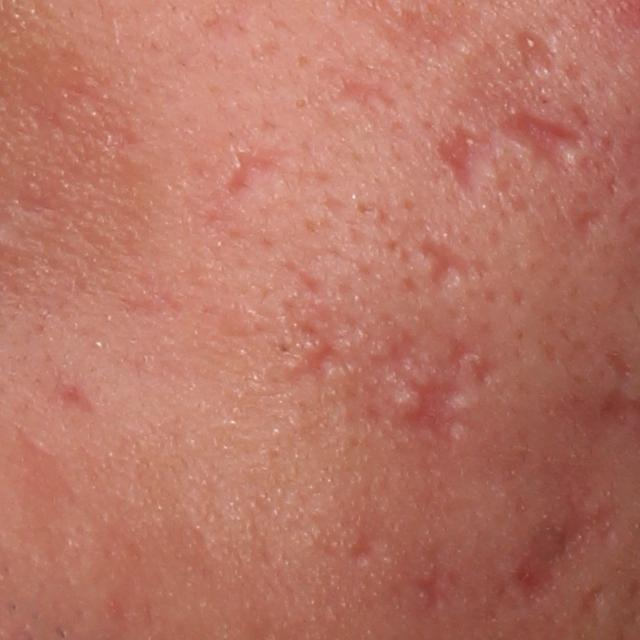atrophic_scar: (505, 499, 623, 605), (279, 299, 345, 391), (390, 374, 472, 448), (496, 107, 593, 168), (430, 125, 493, 207), (416, 233, 495, 290), (218, 141, 290, 201), (401, 559, 455, 616), (340, 514, 386, 568), (329, 74, 396, 108), (516, 29, 562, 75), (51, 371, 96, 417), (572, 205, 607, 245), (578, 584, 606, 628), (602, 347, 635, 383), (468, 358, 498, 387)
comedo: (292, 94, 309, 111)
hypertrophic_scar: (387, 384, 430, 415), (447, 389, 479, 418)
